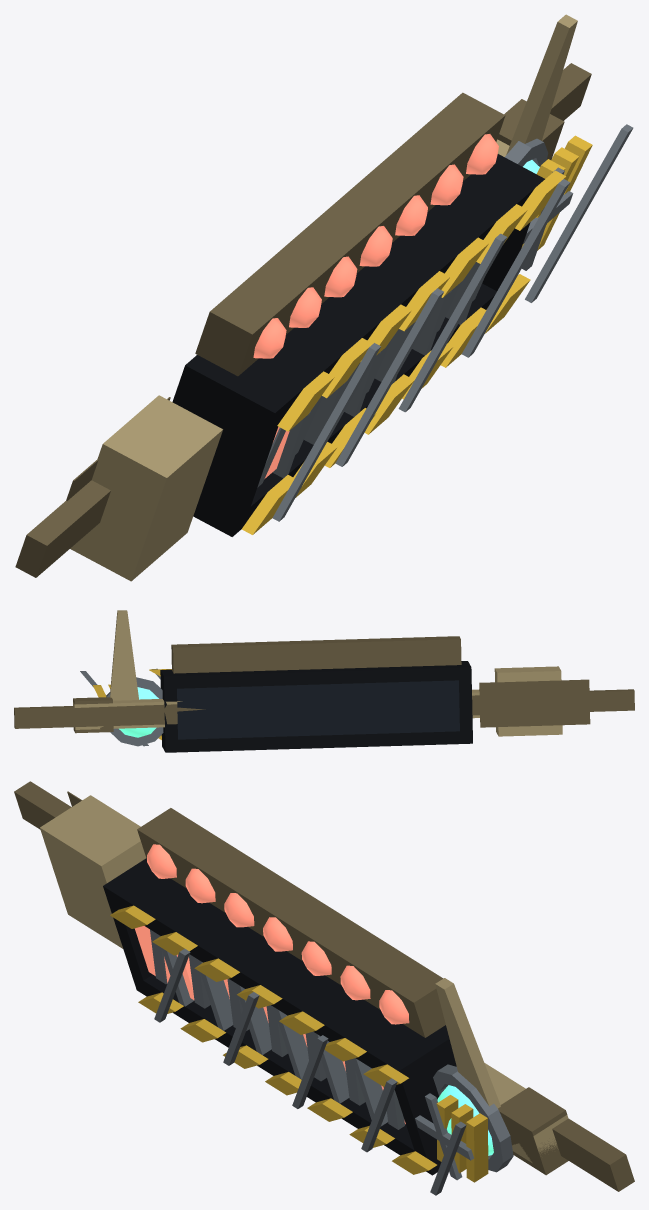
File: mast.glb
The picture shows the model from 3 angles, top to bottom: view 1: azimuth 30°, elevation 25°; view 2: azimuth 150°, elevation 25°; view 3: azimuth 270°, elevation 25°; orthographic projection. The views are drawn at different scales.
Parts seen in each view (by area): view 1: mqb_mast_lampbar, mqb_mast_bezel_t, mqb_mast_collar, mqb_mast_bezel_l, mqb_mast_srail, mqb_mast_vane, mqb_mast_bezel_b, mqb_mast_scrim_1, mqb_mast_scrim_3, mqb_mast_scrim_4, mqb_mast_scrim_0, mqb_mast_scrim_2 (+24 smaller); view 2: mqb_mast_bore, mqb_mast_lampbar, mqb_mast_srail, mqb_mast_bezel_t, mqb_mast_bezel_b, mqb_mast_foot, mqb_mast_vane, mqb_mast_collar, mqb_mast_bezel_l, mqb_mast_rod, mqb_mast_capring, mqb_mast_bezel_r (+2 smaller); view 3: mqb_mast_bezel_t, mqb_mast_lampbar, mqb_mast_collar, mqb_mast_srail, mqb_mast_bezel_b, mqb_mast_knob, mqb_mast_bezel_r, mqb_mast_vane, mqb_mast_capring, mqb_mast_bezel_l, mqb_mast_rod, mqb_mast_capstripe_2 (+32 smaller).
Boxes of the visible parts, bbox=[...] form: mqb_mast_lampbar: bbox=[195, 92, 505, 376]; mqb_mast_bezel_t: bbox=[178, 154, 544, 433]; mqb_mast_collar: bbox=[70, 395, 222, 581]; mqb_mast_bezel_l: bbox=[172, 355, 278, 536]; mqb_mast_srail: bbox=[15, 63, 591, 577]; mqb_mast_vane: bbox=[506, 14, 577, 154]; mqb_mast_bezel_b: bbox=[194, 283, 496, 536]; mqb_mast_scrim_1: bbox=[335, 288, 443, 466]; mqb_mast_scrim_3: bbox=[462, 179, 570, 357]; mqb_mast_scrim_4: bbox=[525, 124, 633, 302]; mqb_mast_scrim_0: bbox=[272, 343, 380, 521]; mqb_mast_scrim_2: bbox=[398, 233, 507, 412]; mqb_mast_bore: bbox=[177, 680, 459, 739]; mqb_mast_lampbar: bbox=[171, 636, 461, 673]; mqb_mast_srail: bbox=[14, 689, 634, 728]; mqb_mast_bezel_t: bbox=[160, 661, 470, 688]; mqb_mast_bezel_b: bbox=[163, 731, 472, 752]; mqb_mast_foot: bbox=[479, 679, 590, 727]; mqb_mast_vane: bbox=[110, 610, 138, 700]; mqb_mast_collar: bbox=[494, 666, 562, 736]; mqb_mast_bezel_l: bbox=[458, 661, 472, 743]; mqb_mast_rod: bbox=[73, 689, 479, 729]; mqb_mast_capring: bbox=[106, 677, 163, 746]; mqb_mast_bezel_r: bbox=[160, 671, 178, 752]; mqb_mast_bezel_t: bbox=[103, 866, 453, 1085]; mqb_mast_lampbar: bbox=[137, 808, 445, 1037]; mqb_mast_collar: bbox=[40, 795, 146, 948]; mqb_mast_srail: bbox=[14, 781, 634, 1191]; mqb_mast_bezel_b: bbox=[137, 975, 432, 1175]; mqb_mast_knob: bbox=[498, 1087, 568, 1175]; mqb_mast_bezel_r: bbox=[394, 1025, 456, 1174]; mqb_mast_vane: bbox=[435, 978, 500, 1108]; mqb_mast_capring: bbox=[433, 1064, 513, 1172]; mqb_mast_bezel_l: bbox=[103, 858, 152, 991]; mqb_mast_rod: bbox=[484, 1063, 568, 1163]; mqb_mast_capstripe_2: bbox=[466, 1113, 488, 1182].
Size of the model in its own units: 0.0769 by 0.0216 by 0.0531.
